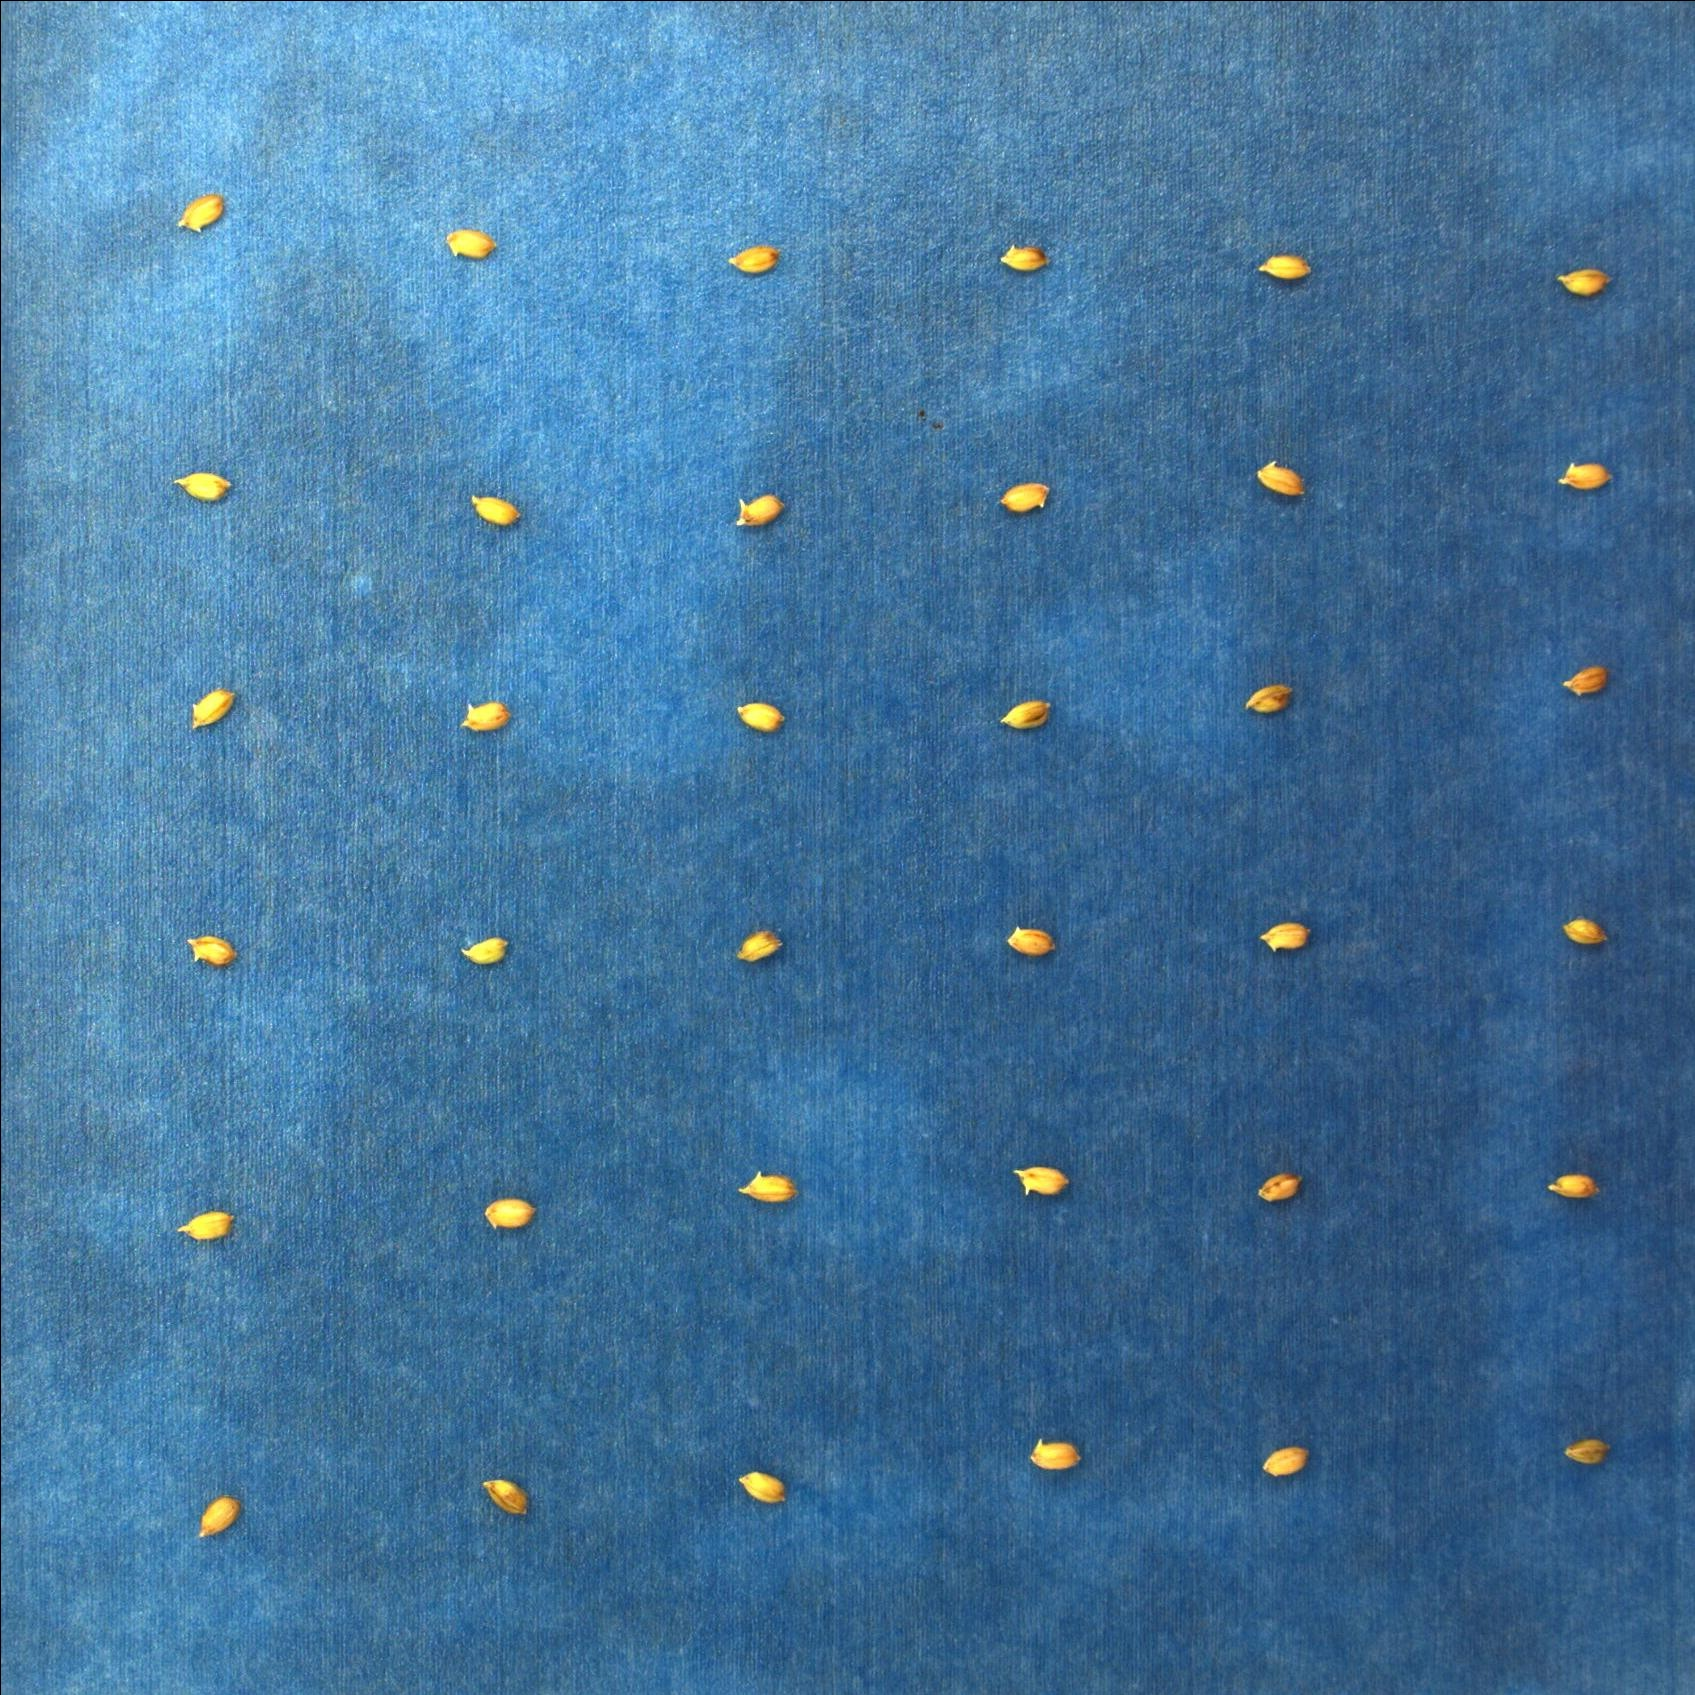not sprout: (189, 688, 239, 730), (177, 1208, 234, 1243), (726, 241, 784, 275), (177, 194, 225, 234), (481, 1479, 531, 1518), (199, 1495, 241, 1540), (470, 492, 523, 528), (1257, 459, 1305, 498), (445, 225, 497, 261), (734, 494, 785, 529), (1001, 480, 1052, 515), (740, 1172, 796, 1205), (1028, 1439, 1083, 1471), (459, 700, 512, 734), (1557, 267, 1614, 298), (1014, 1166, 1071, 1197), (483, 1197, 537, 1229), (1557, 459, 1613, 490), (1000, 700, 1052, 733), (185, 934, 237, 967), (737, 1471, 787, 1506), (1007, 927, 1059, 959), (458, 934, 511, 965), (1256, 1170, 1305, 1203), (175, 473, 233, 501), (1257, 251, 1312, 281), (737, 927, 784, 961), (1544, 1173, 1603, 1200), (736, 703, 785, 734), (1562, 664, 1610, 695), (1260, 1447, 1309, 1478), (1000, 245, 1049, 275), (1260, 924, 1312, 951), (1246, 685, 1293, 712), (1560, 917, 1607, 945), (1565, 1437, 1611, 1465)
